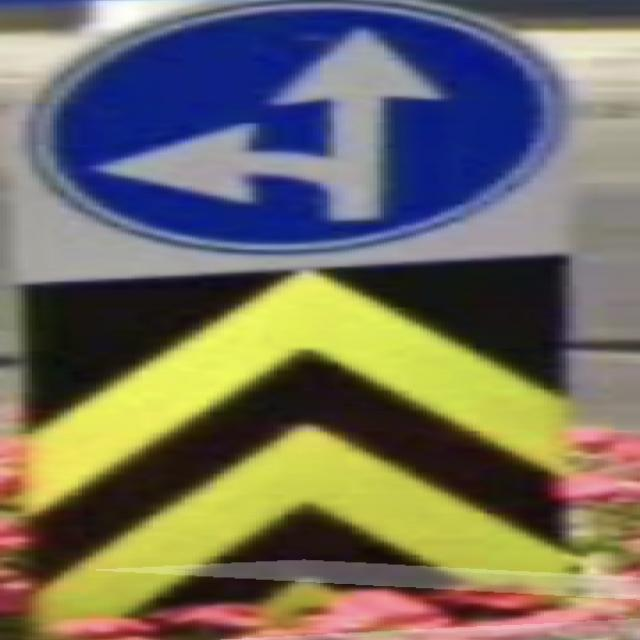Straight or Left: (33, 2, 563, 253)
